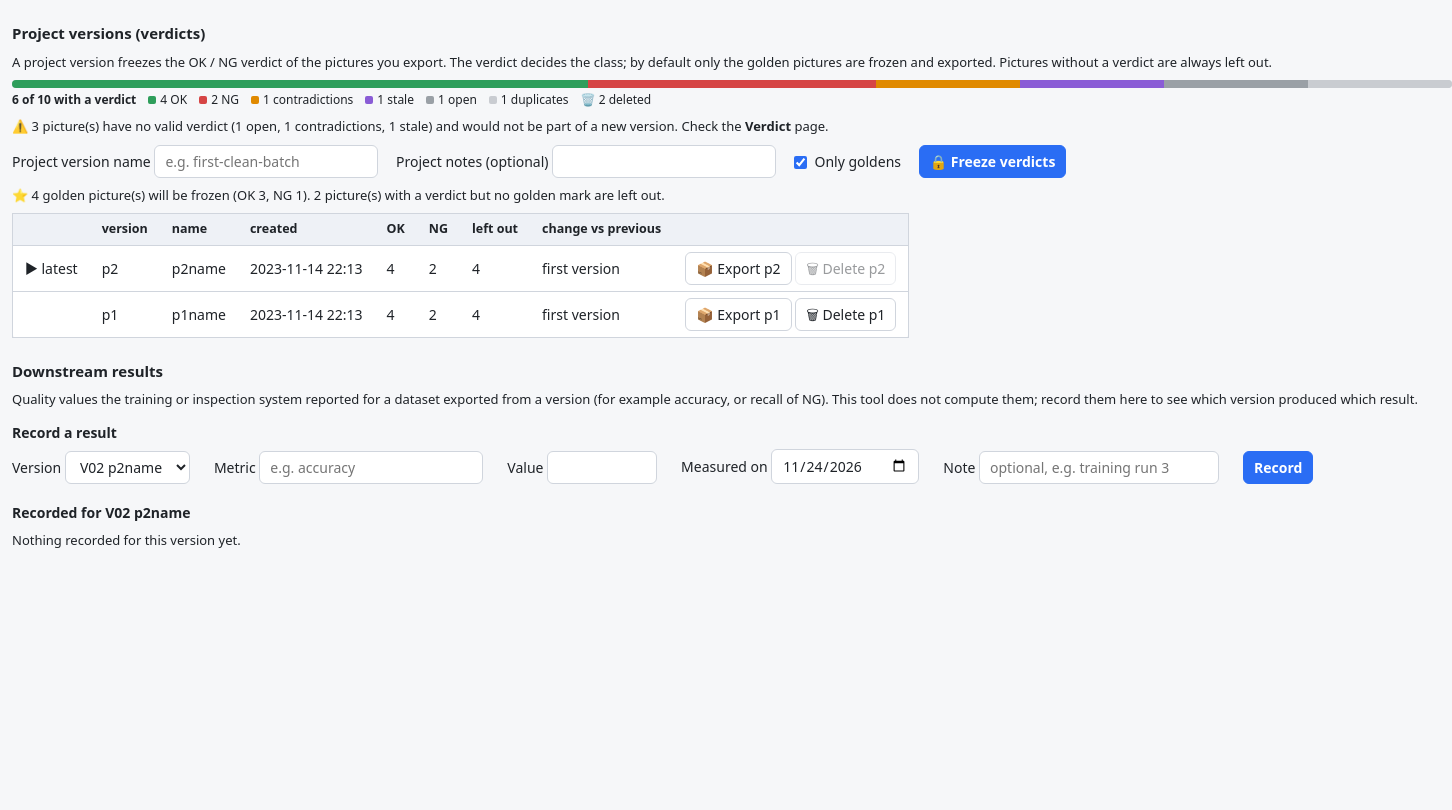
Test case: export reports what was written, missing and changed
Expected: the table named "Project version history" is shown, [12,213,909,338]
Click the button "📦 Export p1" at coordinates (738, 314), box [685,298,792,331]
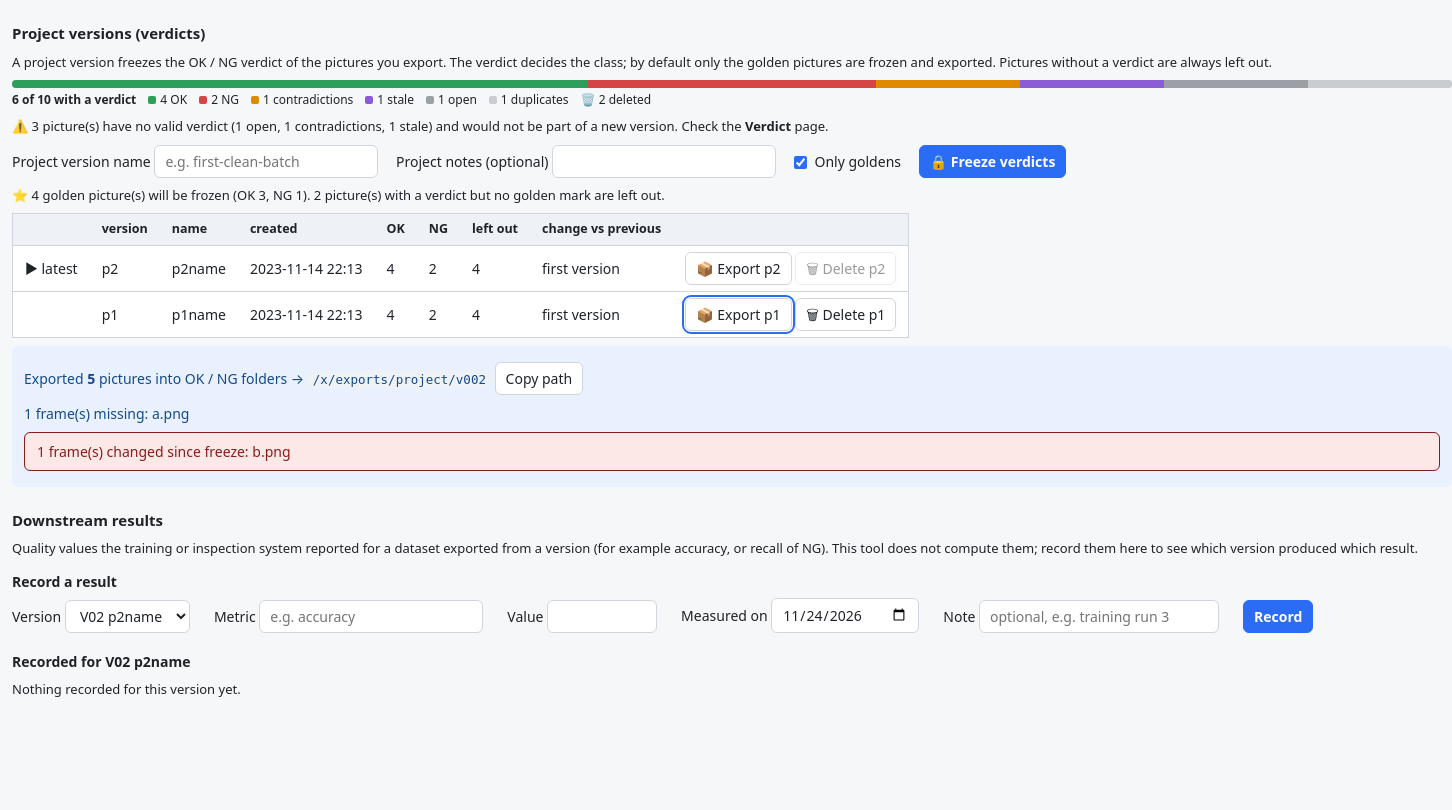
Result: the text "/x/exports/project/v002" is shown at [308,371,491,388]
Result: the text "1 frame(s) missing: a.png" is shown at [24,404,189,423]
Result: the message reads "1 frame(s) changed since freeze: b.png" at [24,432,1440,471]
